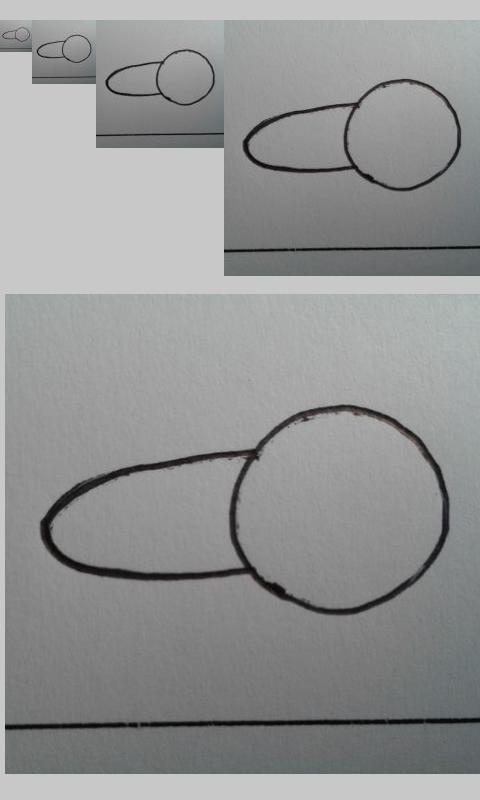switch: (38, 404, 452, 616), (241, 77, 463, 193), (104, 48, 216, 107), (36, 34, 93, 64), (1, 26, 31, 43)
